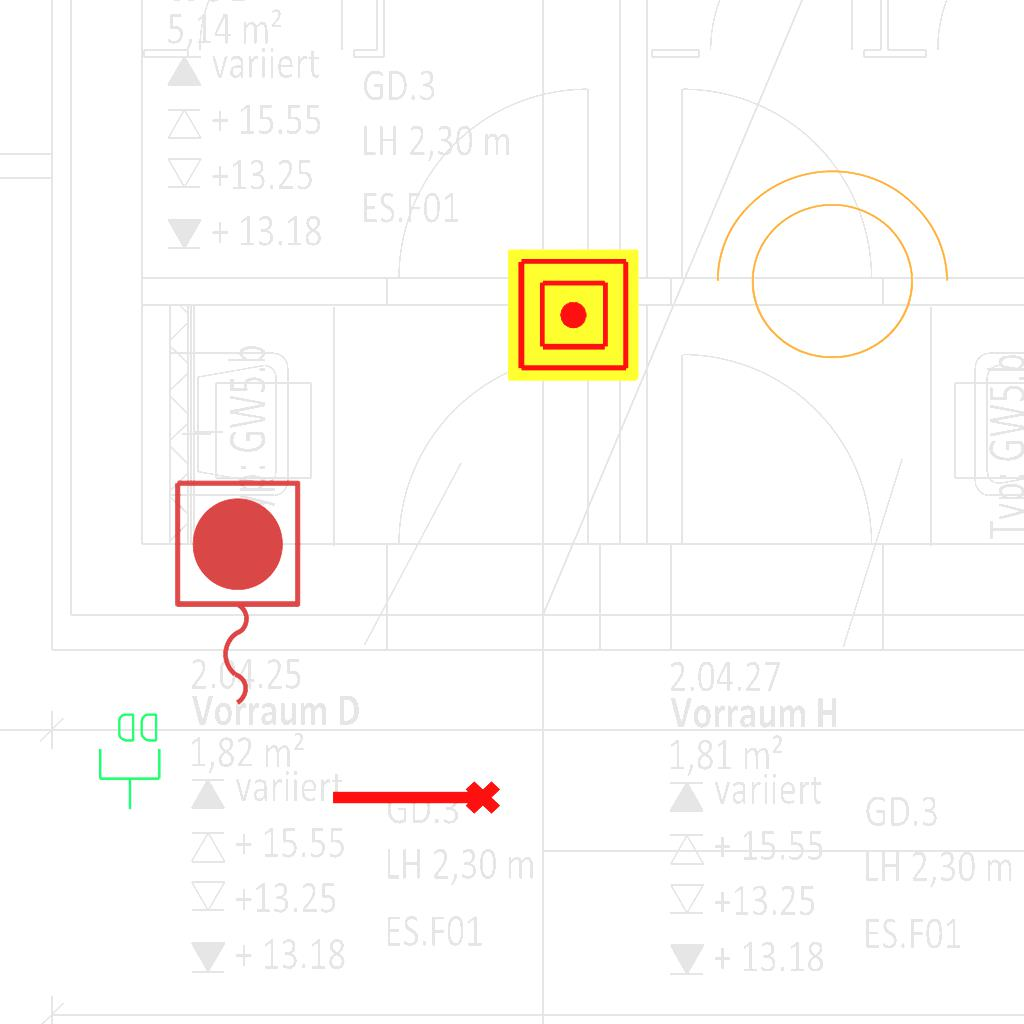ASR_Ansaugoeffnung: (327, 777, 503, 823)
Datenanschluss_zweifach: (96, 709, 165, 812)
NAM-Nichtautomatischer_Melder: (507, 249, 639, 381)
Scheinwerfer_fuer_Alarmbeleuchtung: (694, 159, 958, 384)
Zugtaster: (164, 472, 308, 716)
